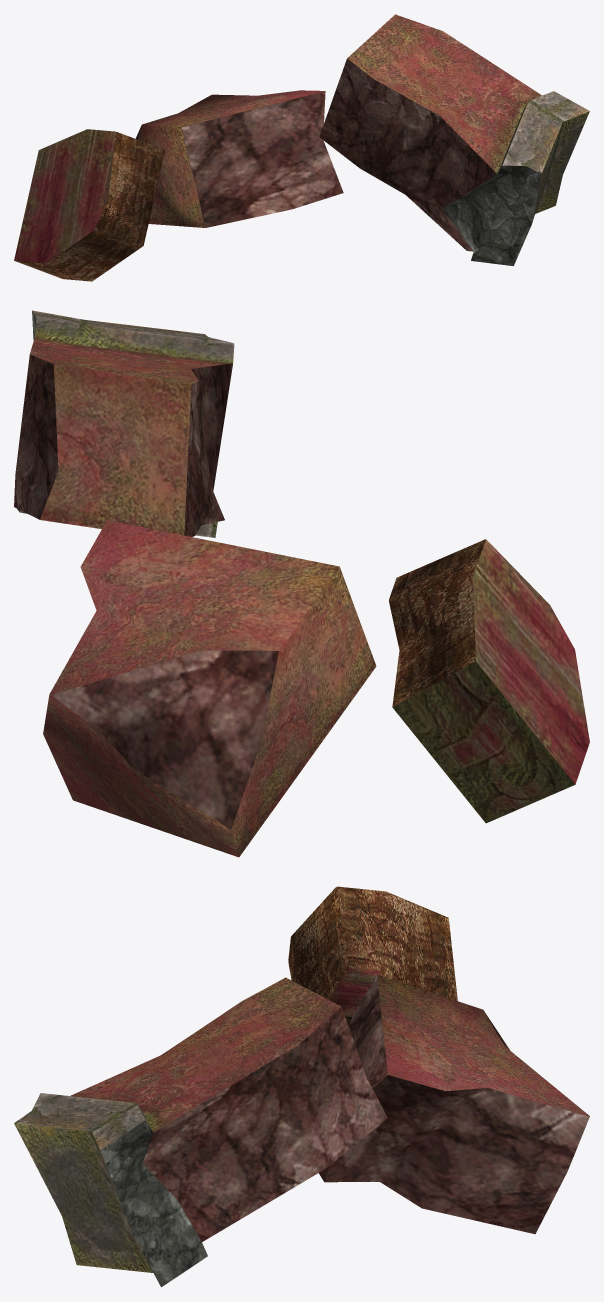
The model's file is fortressa_wall_bk01.fbx.
3 renders of one model, top to bottom at view 1: azimuth 30°, elevation 25°; view 2: azimuth 150°, elevation 25°; view 3: azimuth 270°, elevation 25°, orthographic. The views are drawn at different scales.
Visible parts, largest first — view 1: fortressA_wall_bk01; view 2: fortressA_wall_bk01; view 3: fortressA_wall_bk01.
Boxes of the visible parts, x1,y1,x2,y2 form: fortressA_wall_bk01: (14,14,589,281); fortressA_wall_bk01: (14,310,589,857); fortressA_wall_bk01: (14,886,589,1287).
Size of the model in its own units: 9.85 by 4.37 by 7.89.
